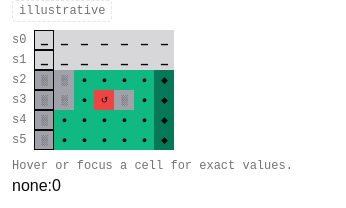
Test: CommitHeatmap (DOM mode) › keyboard focus reveals the exact value in the readout
The image size is (346, 208).
Focus the button named "Slot s3, frame 6: committed, confidence 0.88" at (144, 100), box [134,90,154,110]
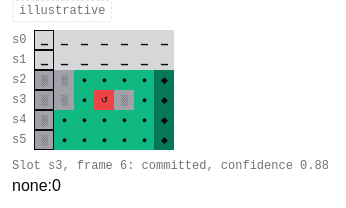
Expected: the text "Slot s3, frame 6: committed, confidence 0.88" is shown, [12,159,329,173]
